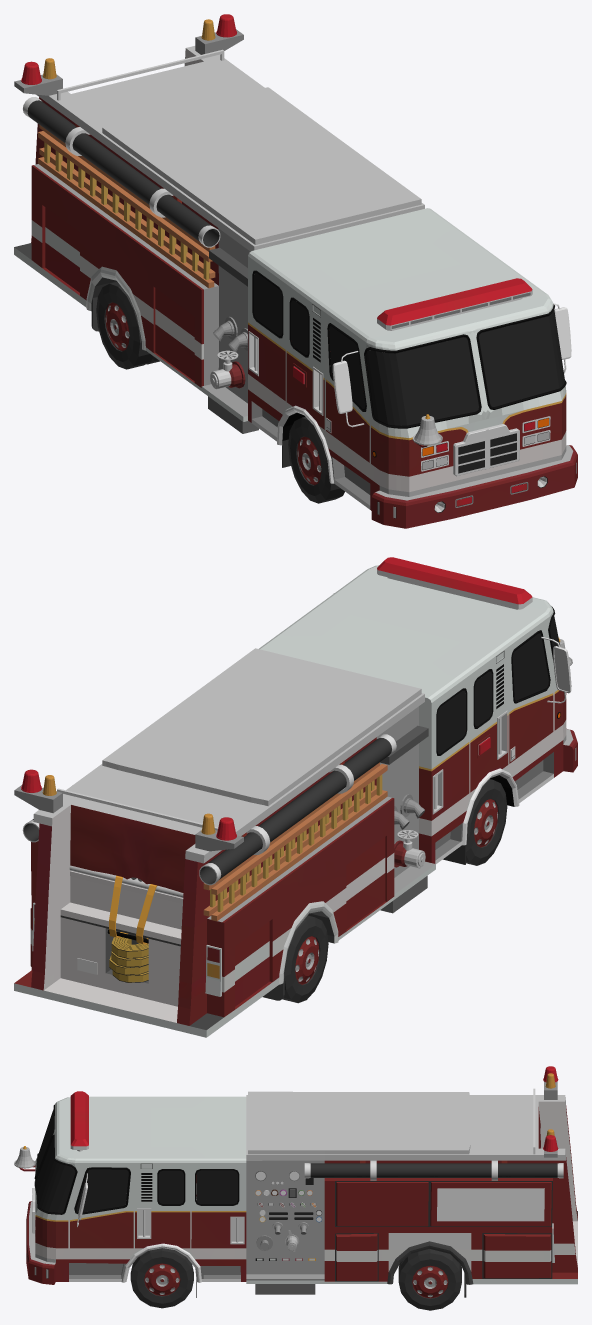
The model's file is fire-truck-pumper.glb.
3 views of the same model, one above another, from view 1: azimuth 30°, elevation 25°; view 2: azimuth 150°, elevation 25°; view 3: azimuth 270°, elevation 25° (orthographic). The views are drawn at different scales.
Parts seen in each view (by area): view 1: fire-truck-pumper; view 2: fire-truck-pumper; view 3: fire-truck-pumper.
Boxes of the visible parts, x1,y1,x2,y2 form: fire-truck-pumper: (14, 14, 577, 528); fire-truck-pumper: (14, 557, 577, 1037); fire-truck-pumper: (14, 1066, 577, 1310).
Size of the model in its own units: 3.1 by 3.06 by 8.92.
Materials: 2 (1 with a texture image).
